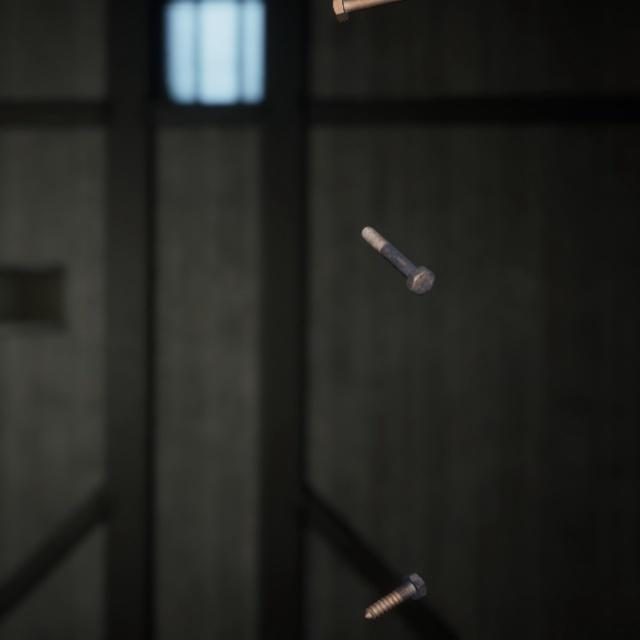bolt: (356, 206, 440, 284), (360, 546, 431, 601)
